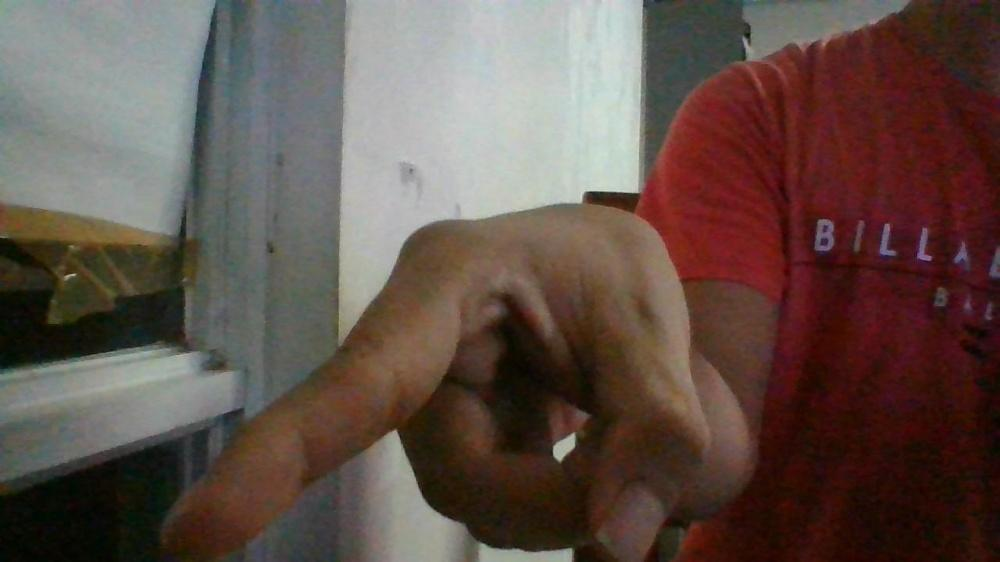z: (157, 197, 716, 562)
